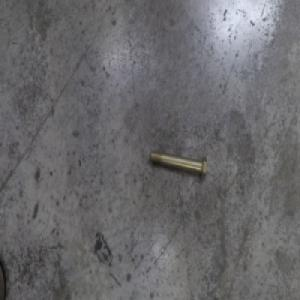Bolt: (147, 150, 208, 181)
